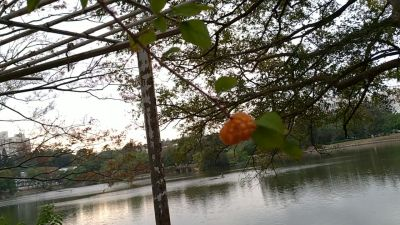eggs: (218, 110, 258, 147)
